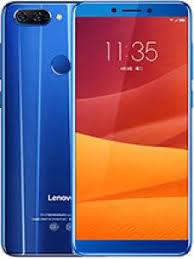lenovo: (1, 1, 194, 259), (68, 1, 194, 259)
